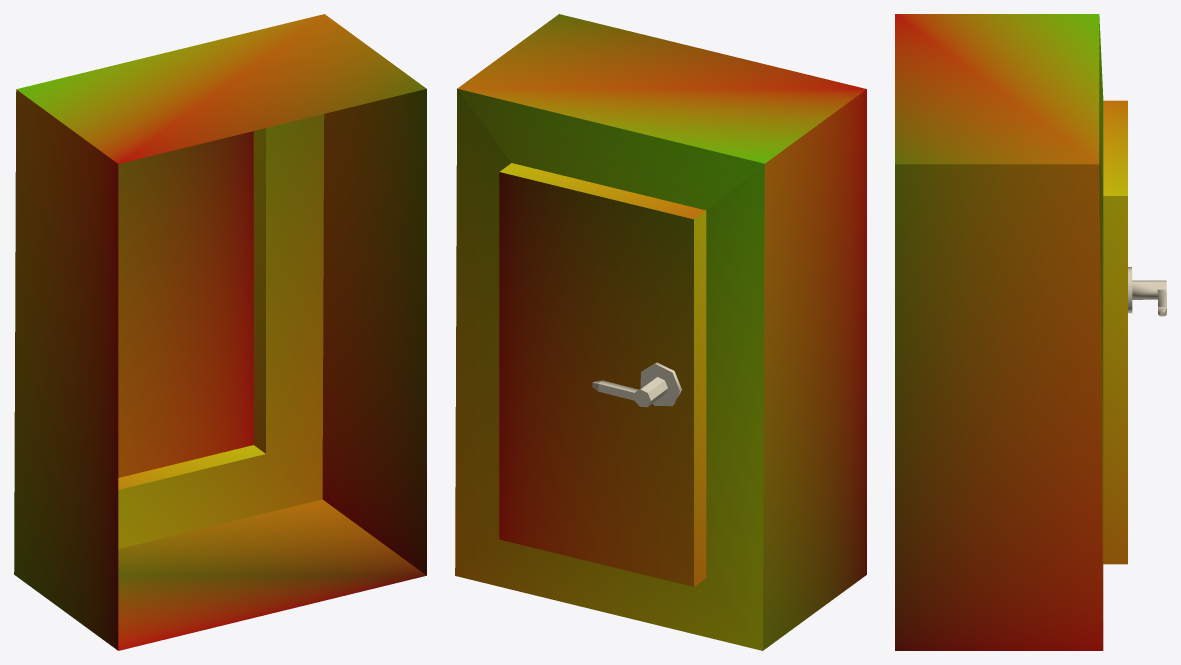
The model's file is Armario2.fbx.
The picture shows the model from 3 angles, left to right: view 1: azimuth 30°, elevation 25°; view 2: azimuth 150°, elevation 25°; view 3: azimuth 270°, elevation 25°; orthographic projection.
Visible parts, largest first — view 1: armario2; view 2: armario2; view 3: armario2.
Part boxes in pixels (x1,y1,x2,y2): armario2: (14,14,426,650); armario2: (455,14,866,650); armario2: (895,14,1166,650).
Bounding box in the file's own units: 39.37 × 59.39 × 30.08.
